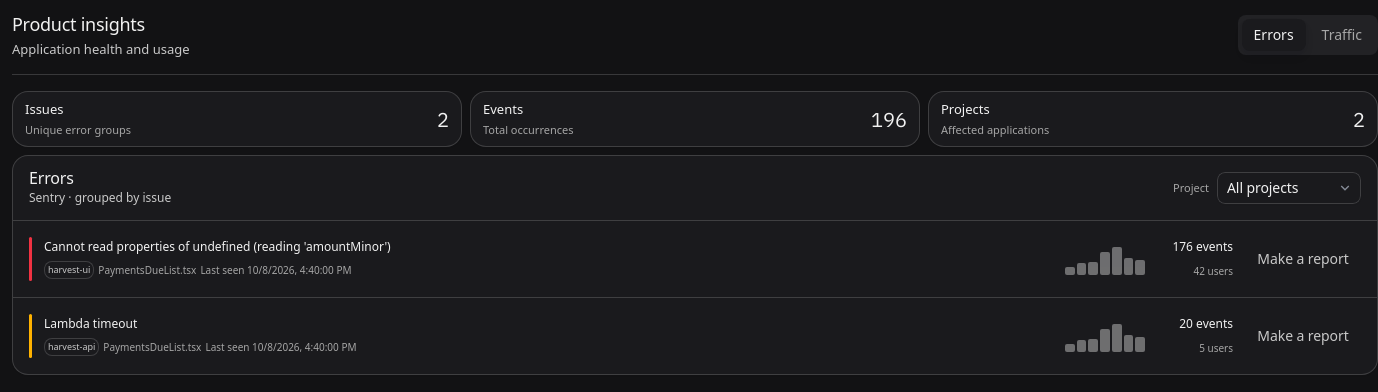
Test: shows live issues and recalculates metrics for the chosen project
Check: the heading "Cannot read properties of undefined (reading 'amountMinor')" is shown, box [44,238,391,255]
Check: the heading "Lambda timeout" is shown, box [44,315,137,332]
Select "harvest-api" in the dropdown labelled "Project" at (1289, 188), box [1217,172,1361,204]
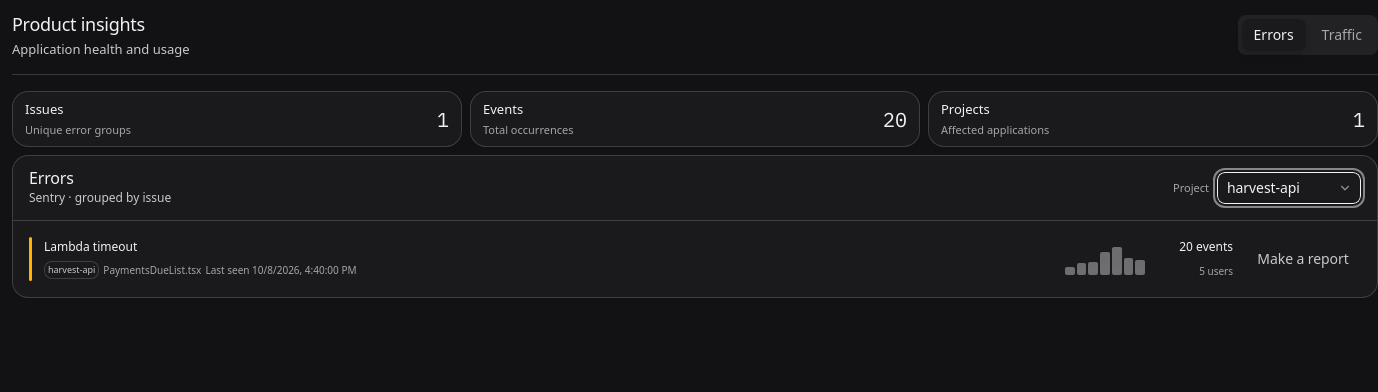
Check: the heading "Lambda timeout" is shown, box [44,238,137,255]
Check: the heading "Cannot read properties of undefined (reading 'amountMinor')" is gone
Check: the text "20" is shown, box [883,108,907,130]
